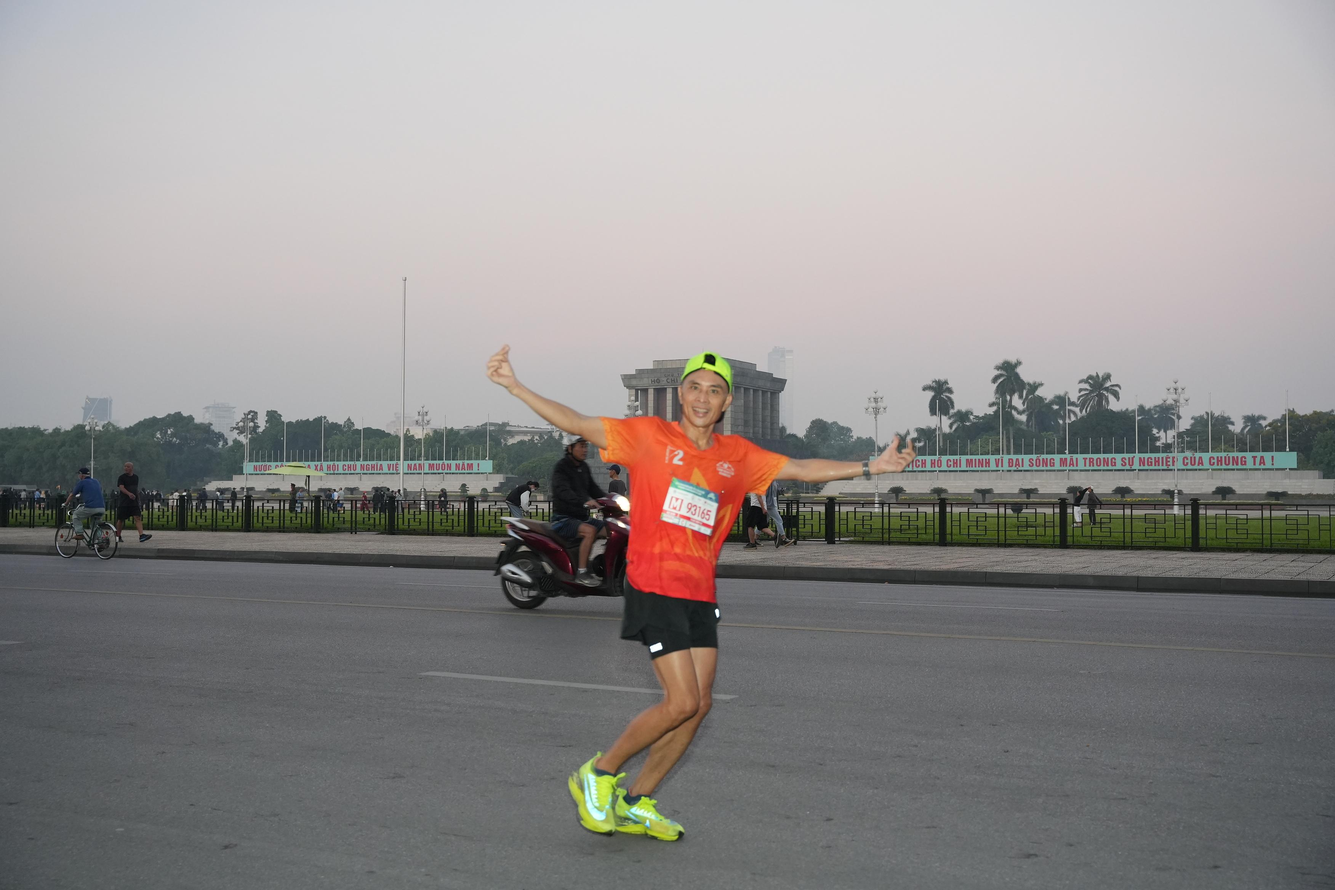bib: (659, 477, 717, 536)
